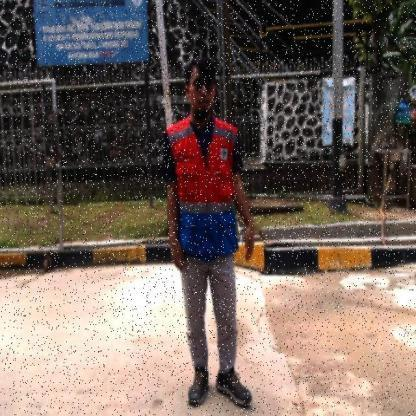boots: (212, 365, 253, 407), (189, 365, 211, 409)
